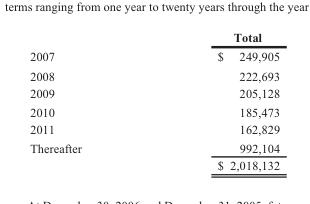table: (29, 29, 279, 173)
table column: (148, 29, 279, 173), (29, 29, 148, 173)
table column header: (29, 29, 279, 45)
table row: (29, 45, 279, 65), (29, 65, 279, 84), (29, 84, 279, 102), (29, 102, 279, 120), (29, 120, 279, 138), (29, 138, 279, 156), (29, 156, 279, 173), (29, 29, 279, 45)
